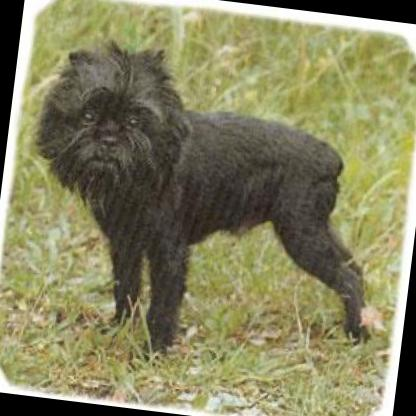affenpinscher: (3, 26, 402, 387)
